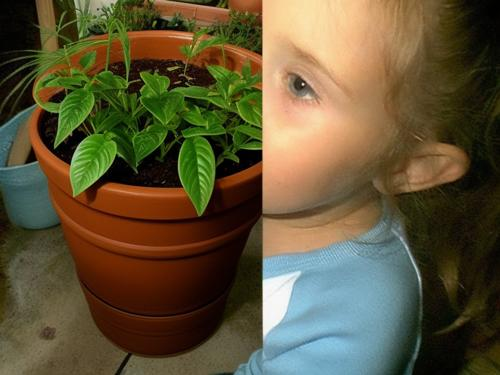person: (5, 3, 499, 375)
person/hand: (63, 71, 174, 194), (107, 231, 196, 334)
person/head: (182, 4, 469, 216)
pottedplant: (22, 1, 262, 373)
